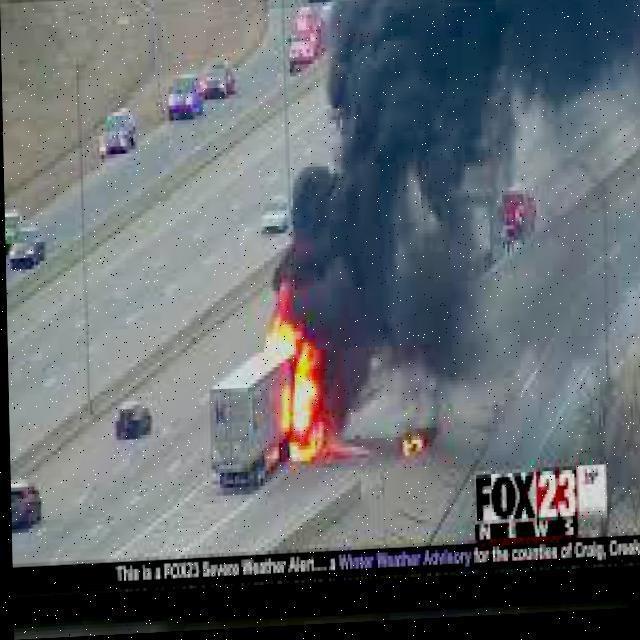Fire: (262, 275, 372, 481), (388, 421, 428, 468)
